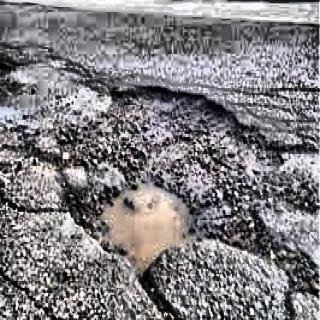pothole: (55, 70, 286, 274)
